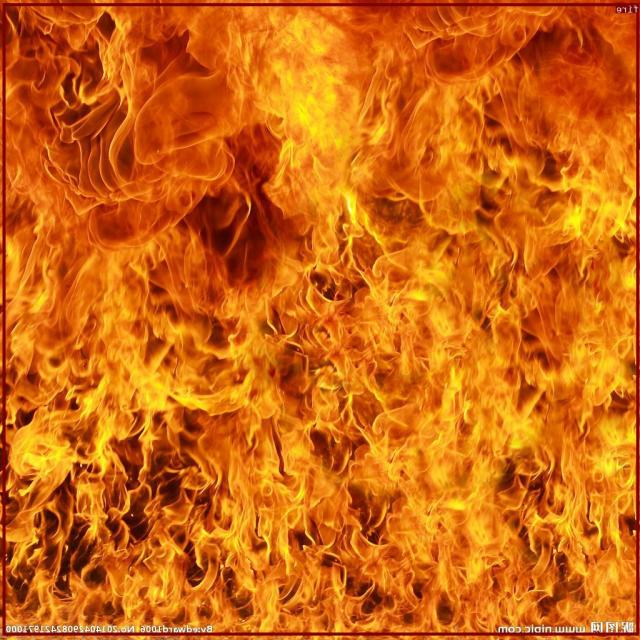fire: (3, 3, 640, 635)
